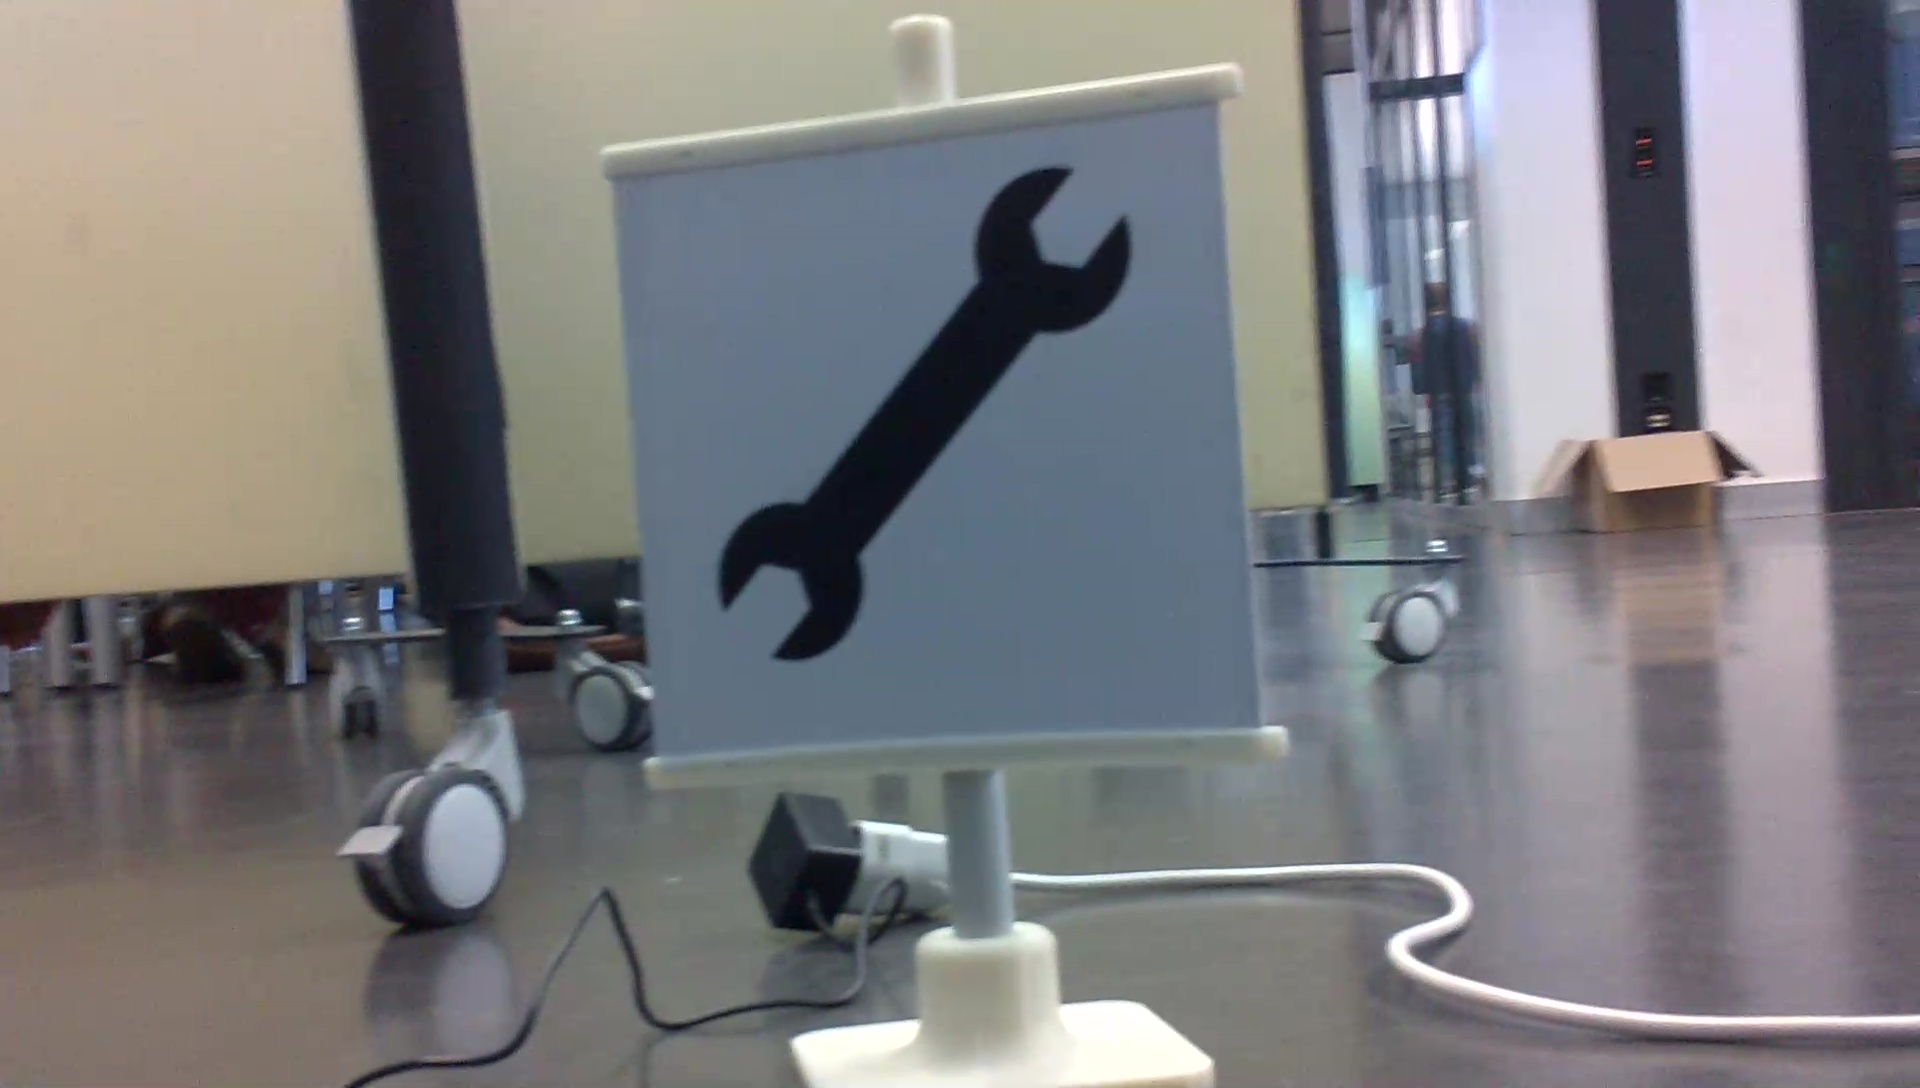wrench: (705, 158, 1145, 667)
